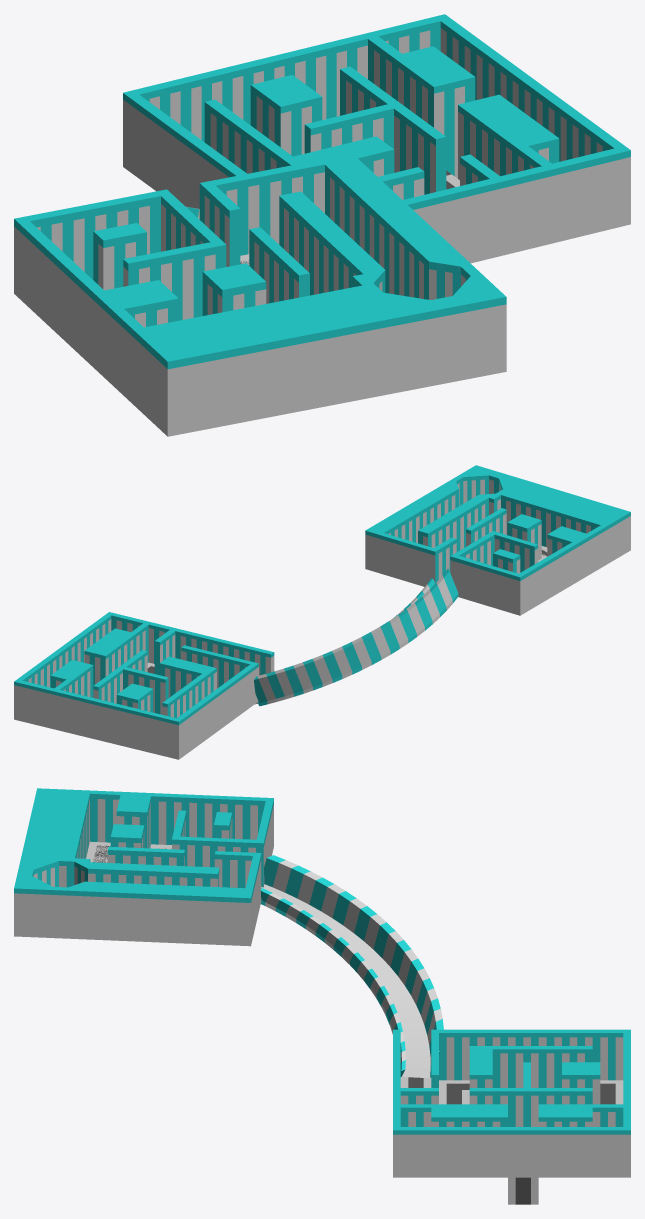
Rendered from levelmoon1.fbx.
3 renders of one model, top to bottom at view 1: azimuth 30°, elevation 25°; view 2: azimuth 150°, elevation 25°; view 3: azimuth 270°, elevation 25°, orthographic. The views are drawn at different scales.
Visible parts, largest first — view 1: Plane.001, Plane; view 2: Plane.001, Plane, Cube; view 3: Plane.001, Plane, Cube.
Part boxes in pixels (x1,y1,x2,y2): Plane.001: [14, 153, 506, 436]; Plane: [123, 14, 630, 263]; Plane.001: [365, 465, 630, 615]; Plane: [14, 612, 274, 759]; Cube: [254, 568, 458, 706]; Plane.001: [14, 788, 273, 946]; Plane: [393, 1029, 630, 1204]; Cube: [261, 855, 443, 1078].
Bounding box in the file's own units: 8281 × 3300 × 9328.
